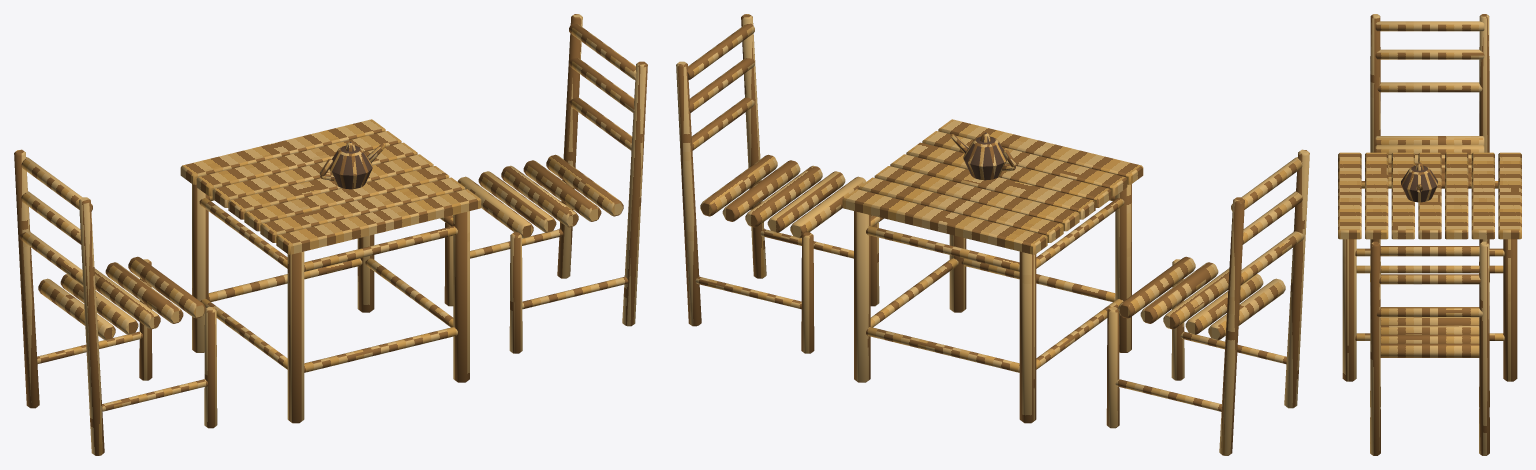
File: cn_bamboo_table_set_0.glb
The picture shows the model from 3 angles, left to right: view 1: azimuth 30°, elevation 25°; view 2: azimuth 150°, elevation 25°; view 3: azimuth 270°, elevation 25°; orthographic projection. The views are drawn at different scales.
Parts seen in each view (by area): view 1: cn_bamboo_table_set_1; view 2: cn_bamboo_table_set_1; view 3: cn_bamboo_table_set_1.
Boxes of the visible parts, x1,y1,x2,y2 form: cn_bamboo_table_set_1: [14, 14, 647, 455]; cn_bamboo_table_set_1: [676, 14, 1309, 455]; cn_bamboo_table_set_1: [1338, 14, 1521, 455].
Bounding box in the file's own units: 2.12 × 0.9215 × 0.708.
2 materials, 2 textured.
